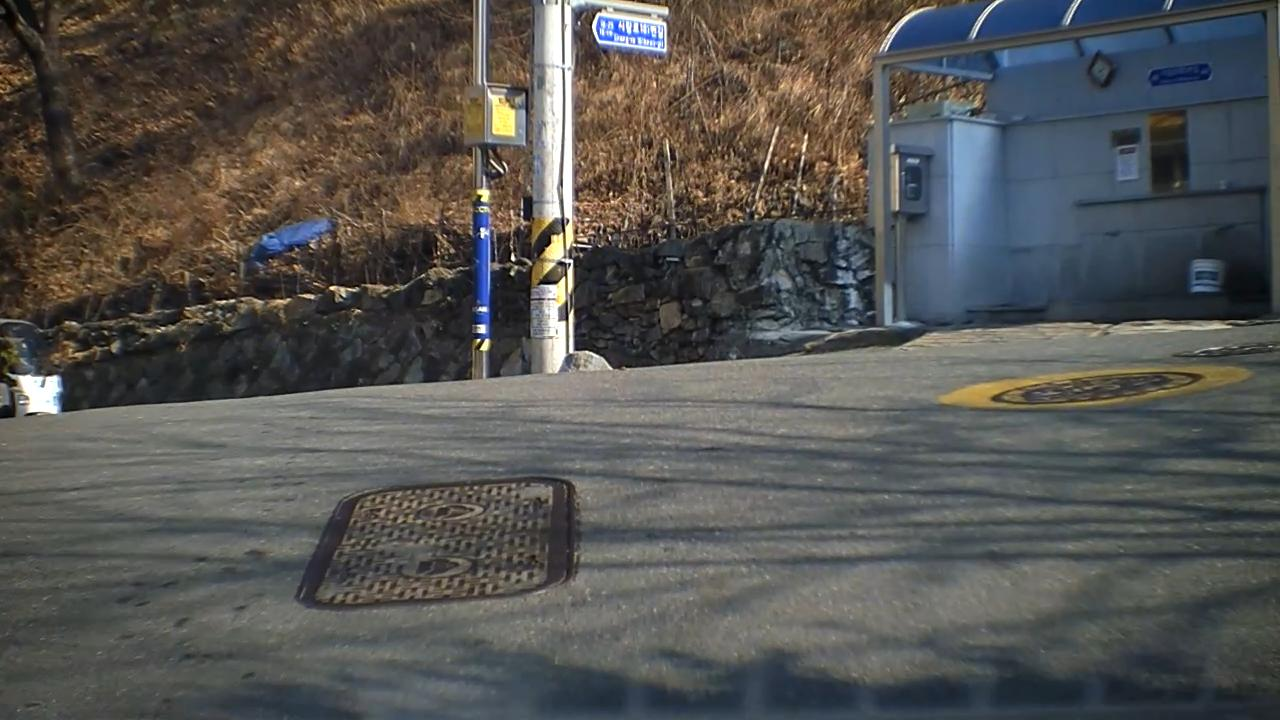stone: (558, 350, 611, 374)
trash: (9, 373, 70, 416)
